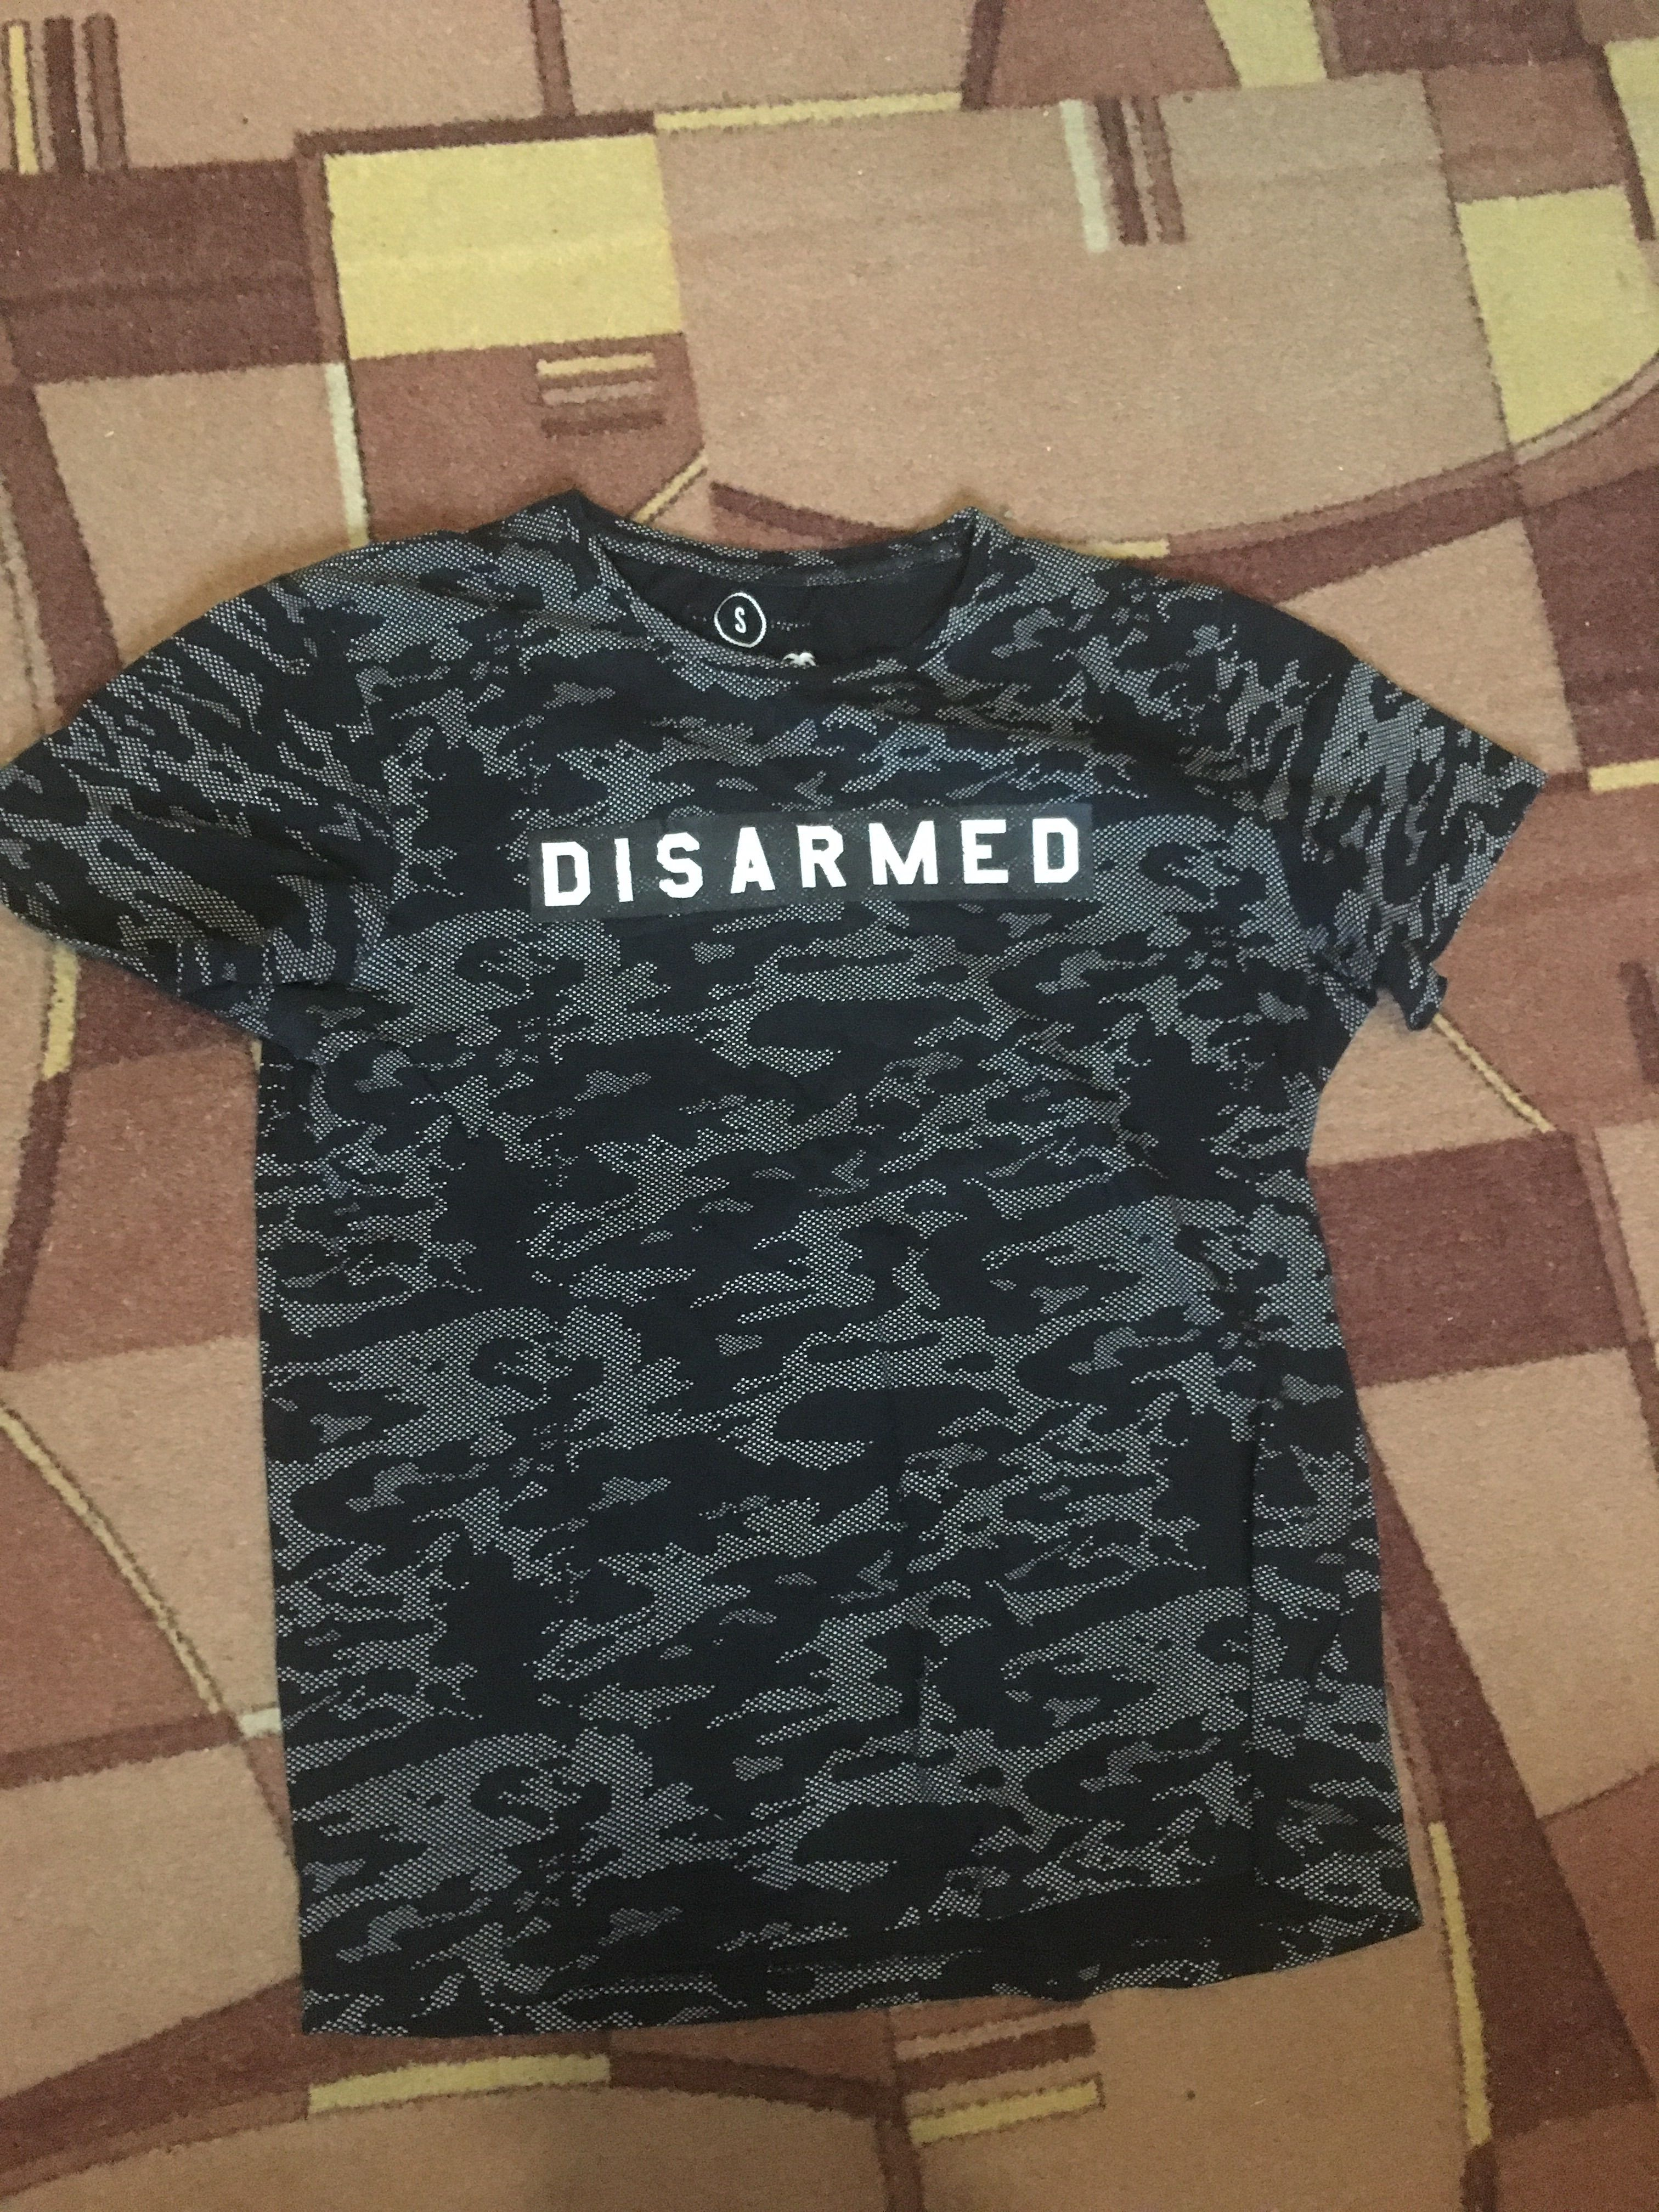clothes: (5, 500, 1535, 1986)
